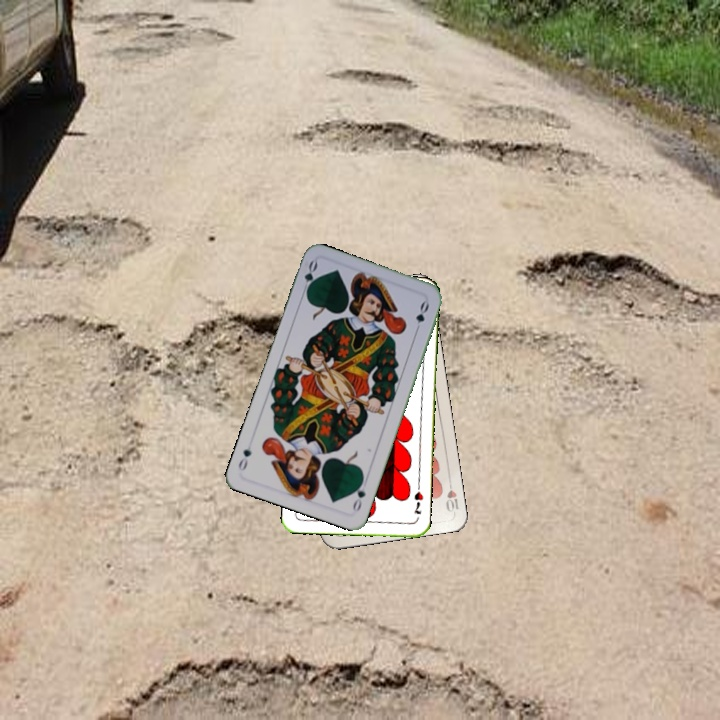GO: (298, 257, 320, 298), (349, 474, 370, 514)
H10: (441, 475, 461, 514)
H7: (410, 487, 426, 517)
